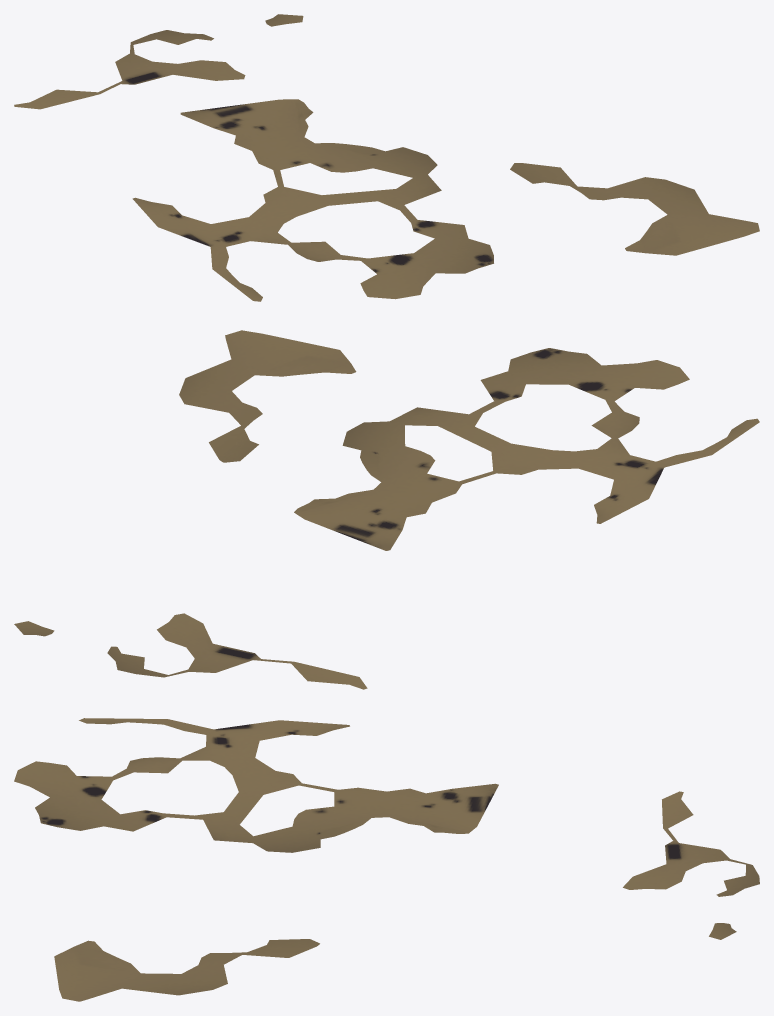
File: Ground_03.FBX
3 renders of one model, top to bottom at view 1: azimuth 30°, elevation 25°; view 2: azimuth 150°, elevation 25°; view 3: azimuth 270°, elevation 25°, orthographic. The views are drawn at different scales.
Visible parts, largest first — view 1: Ground_03; view 2: Ground_03; view 3: Ground_03.
Part boxes in pixels (x1,y1,x2,y2): Ground_03: (14,14,759,301); Ground_03: (14,330,759,689); Ground_03: (14,718,759,1001).
Bounding box in the file's own units: 32.26 × 2.65 × 42.16.
